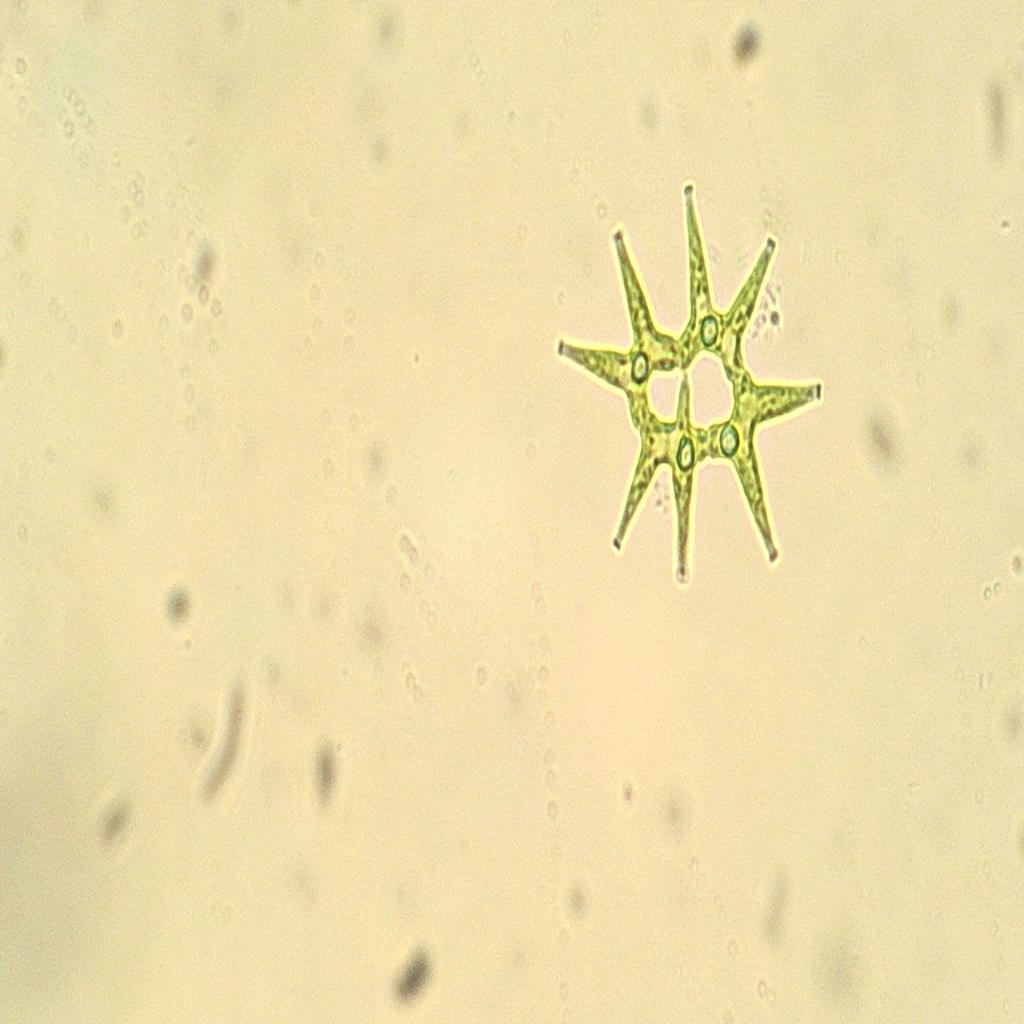Pediastrum_75FO: (532, 140, 844, 634)
